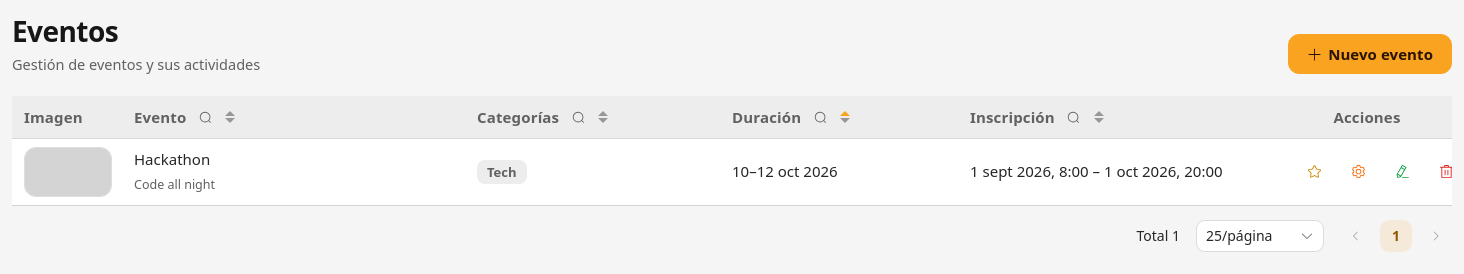
EventsAdminPage › keeps the dialog closed when the edited event no longer exists
The image size is (1464, 274).
Click the button named "Editar": (1402, 172) [1382,152,1422,192]
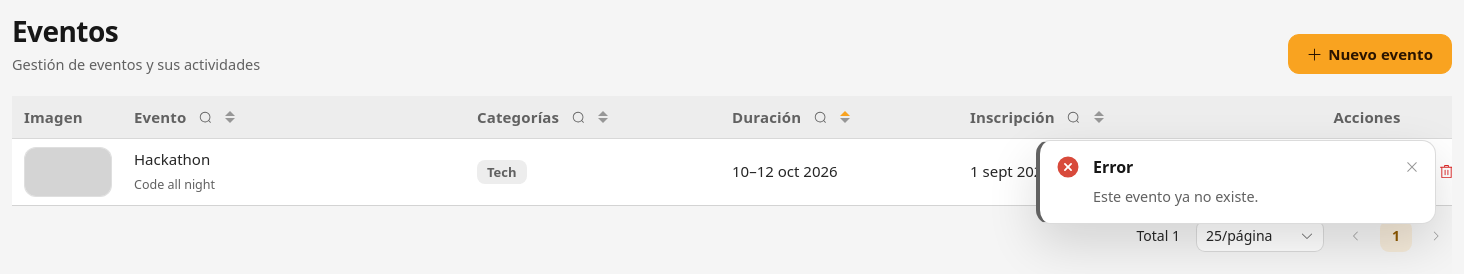
Expected: the heading "Error" is shown, [1093,156,1133,178]
